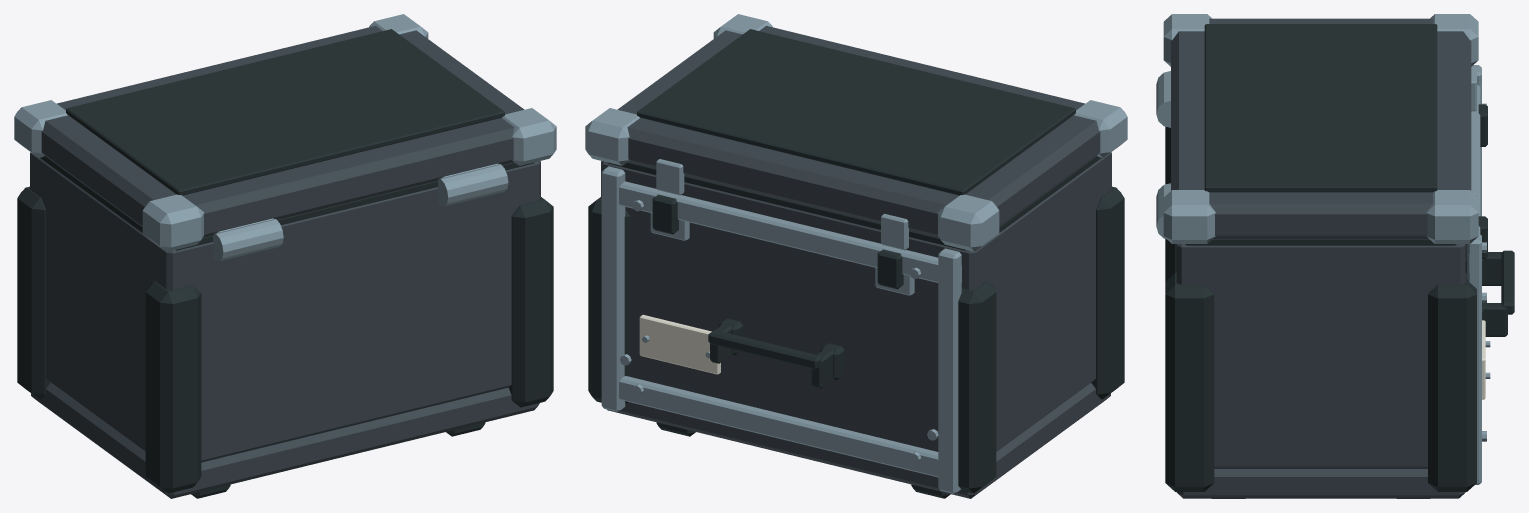
Rendered from reinforced_flight_case.glb.
3 renders of one model, left to right at view 1: azimuth 30°, elevation 25°; view 2: azimuth 150°, elevation 25°; view 3: azimuth 270°, elevation 25°, orthographic. The views are drawn at different scales.
Visible parts, largest first — view 1: body_back_wall, moving_lid_inset, corner_guard (×3), moving_lid_shell, body_left_wall, body_floor, moving_lid_corner (×4), hinge_body (×2), gasket_back, gasket_side; view 2: body_front_wall, moving_lid_inset, moving_lid_shell, body_left_wall, corner_guard (×3), front_aluminum_rail (×2), front_aluminum_upright (×2), body_floor, moving_lid_corner (×4), type_plate, latch_release (×2), gasket_front (+4 smaller); view 3: body_right_wall, moving_lid_inset, moving_lid_shell, corner_guard (×3), moving_lid_corner (×4), body_floor, gasket_side, front_aluminum_upright, hinge_body (×2), front_aluminum_rail, carry_handle_bar, carry_handle_right (+1 smaller).
Part boxes in pixels (x1,y1,x2,y2): body_back_wall: [159, 162, 539, 462]; moving_lid_inset: [66, 29, 504, 195]; corner_guard (×3): [17, 186, 553, 493]; moving_lid_shell: [41, 25, 524, 237]; body_left_wall: [30, 152, 185, 451]; body_floor: [31, 383, 539, 498]; moving_lid_corner (×4): [14, 14, 556, 251]; hinge_body (×2): [213, 164, 508, 261]; gasket_back: [176, 162, 534, 250]; gasket_side: [40, 155, 142, 232]; body_front_wall: [603, 162, 977, 451]; moving_lid_inset: [637, 29, 1075, 195]; moving_lid_shell: [617, 25, 1100, 237]; body_left_wall: [957, 152, 1111, 451]; corner_guard (×3): [588, 186, 1124, 493]; front_aluminum_rail (×2): [619, 181, 961, 479]; front_aluminum_upright (×2): [601, 166, 961, 494]; body_floor: [607, 383, 1110, 498]; moving_lid_corner (×4): [585, 14, 1127, 251]; type_plate: [639, 314, 720, 374]; latch_release (×2): [652, 194, 903, 289]; gasket_front: [607, 162, 965, 250]; body_right_wall: [1176, 244, 1465, 468]; moving_lid_inset: [1204, 24, 1437, 192]; moving_lid_shell: [1171, 18, 1471, 239]; corner_guard (×3): [1165, 126, 1476, 491]; moving_lid_corner (×4): [1163, 14, 1478, 243]; body_floor: [1176, 469, 1465, 498]; gasket_side: [1185, 239, 1456, 245]; front_aluminum_upright: [1466, 233, 1481, 484]; hinge_body (×2): [1156, 71, 1170, 238]; front_aluminum_rail: [1466, 84, 1480, 272]; carry_handle_bar: [1501, 250, 1514, 314]; carry_handle_right: [1482, 303, 1507, 336].
Size of the model in its own units: 1.25 by 0.9495 by 0.9545.
